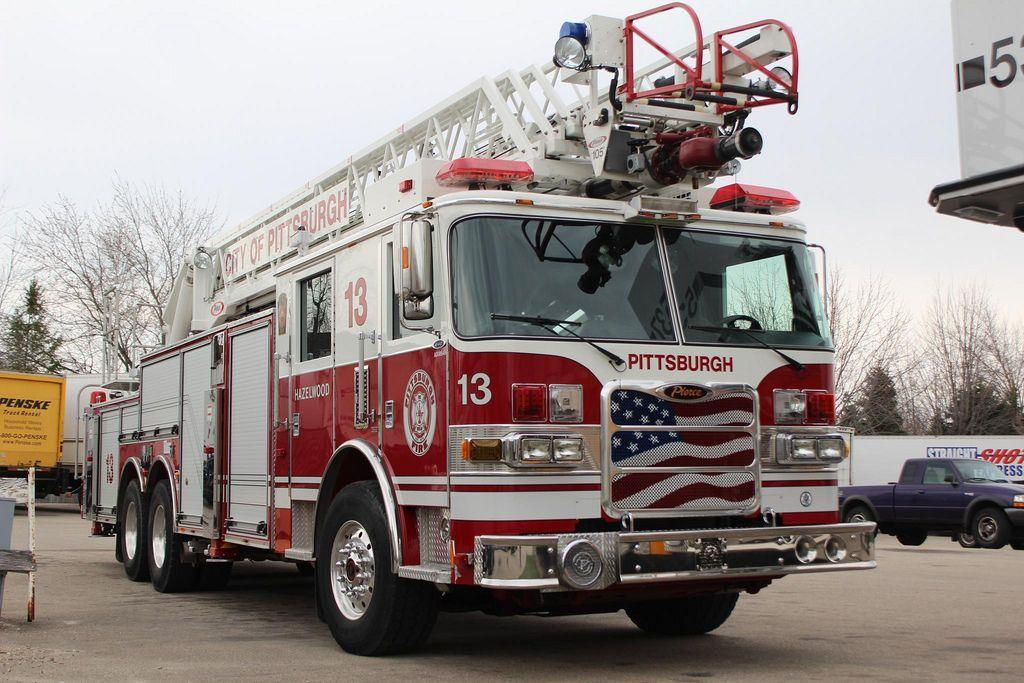Fire-engine: (72, 7, 874, 660)
